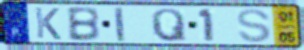1: (196, 8, 219, 43)
B: (64, 6, 102, 42)
I: (113, 6, 128, 43)
K: (33, 6, 63, 41)
Q: (149, 7, 189, 43)
S: (235, 8, 273, 44)
